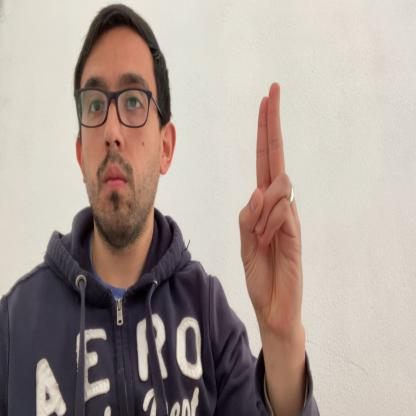U: (239, 81, 303, 338)
